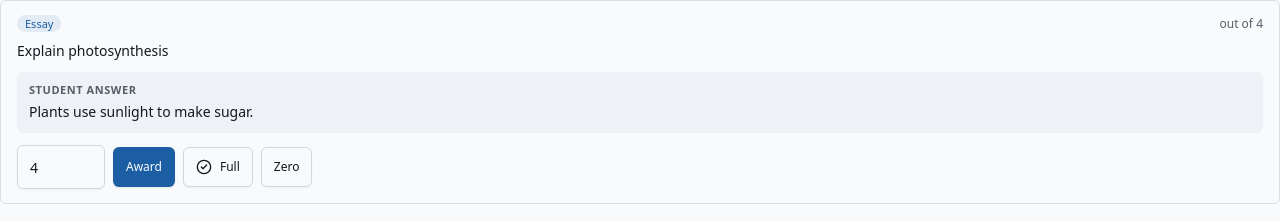
Test: AnswerCard › lets the marker clear the points and type a new mark
This screenshot has width=1280, height=221.
Clear the number field at point(61, 167), box [17, 145, 105, 189]
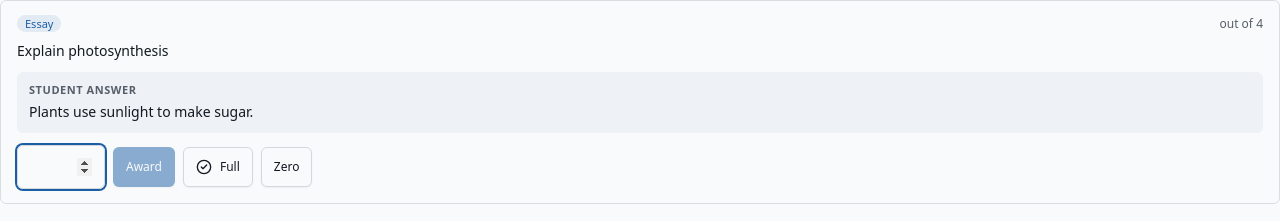
Check: the button "Award" is disabled, box [113, 147, 175, 187]
Type "3" into the number field at point(61, 167), box [17, 145, 105, 189]
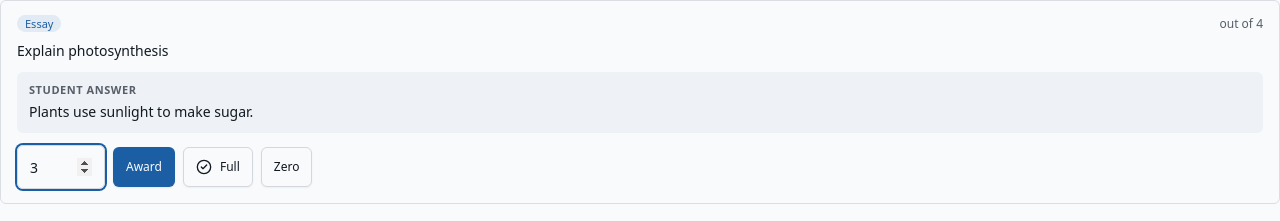
Check: the button "Award" is enabled, box [113, 147, 175, 187]
